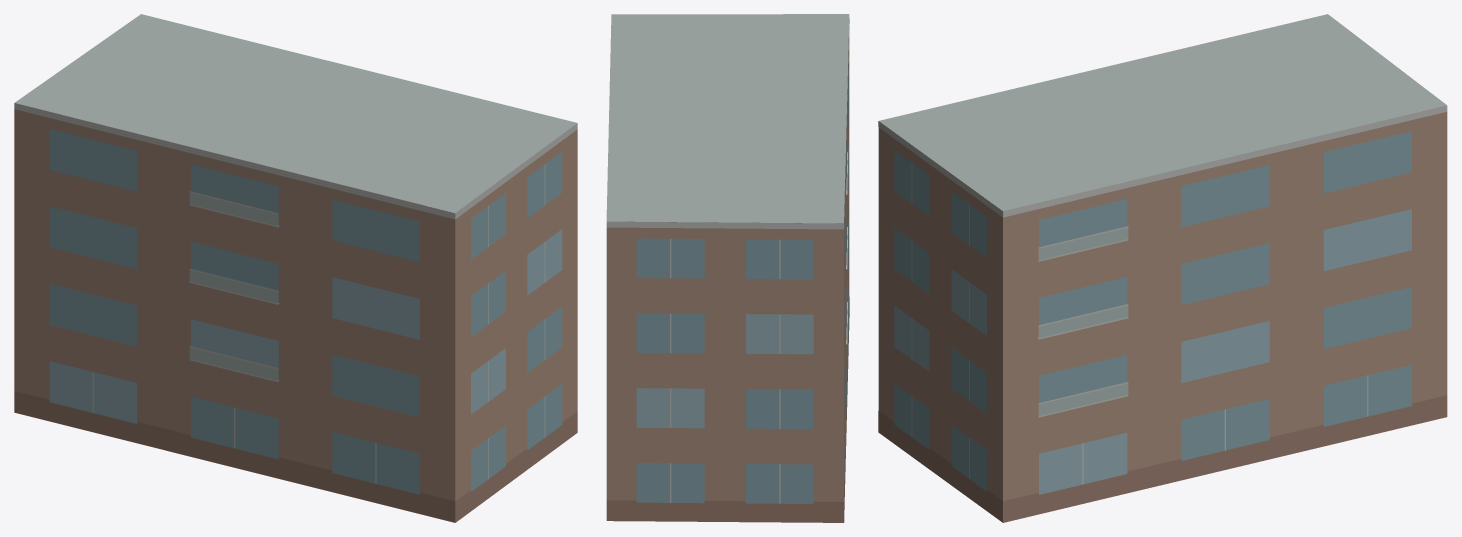
File: survey-upis-32721956.glb
3 renders of one model, left to right at view 1: azimuth 30°, elevation 25°; view 2: azimuth 150°, elevation 25°; view 3: azimuth 270°, elevation 25°, orthographic. The views are drawn at different scales.
Parts seen in each view (by area): view 1: survey-upis-32721956.tmp; view 2: survey-upis-32721956.tmp; view 3: survey-upis-32721956.tmp.
Boxes of the visible parts, bbox=[...] form: survey-upis-32721956.tmp: bbox=[14, 14, 577, 522]; survey-upis-32721956.tmp: bbox=[606, 14, 849, 522]; survey-upis-32721956.tmp: bbox=[878, 14, 1447, 522].
Size of the model in its own units: 16.58 by 12.2 by 20.2.
